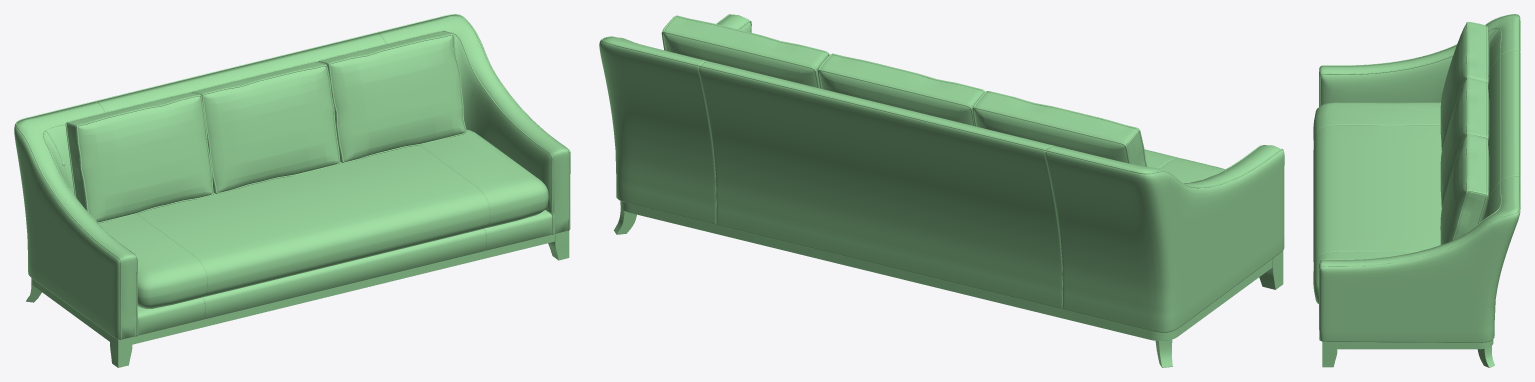
File: SofaSet_Gen_2_Couch.fbx
The picture shows the model from 3 angles, left to right: view 1: azimuth 30°, elevation 25°; view 2: azimuth 150°, elevation 25°; view 3: azimuth 270°, elevation 25°; orthographic projection. The views are drawn at different scales.
Visible parts, largest first — view 1: mesh_sofa; view 2: mesh_sofa; view 3: mesh_sofa.
Boxes of the visible parts, x1=… form: mesh_sofa: x1=14, y1=14, x2=570, y2=367; mesh_sofa: x1=599, y1=14, x2=1284, y2=367; mesh_sofa: x1=1313, y1=14, x2=1520, y2=367.
Size of the model in its own units: 239 by 88.6 by 103.
